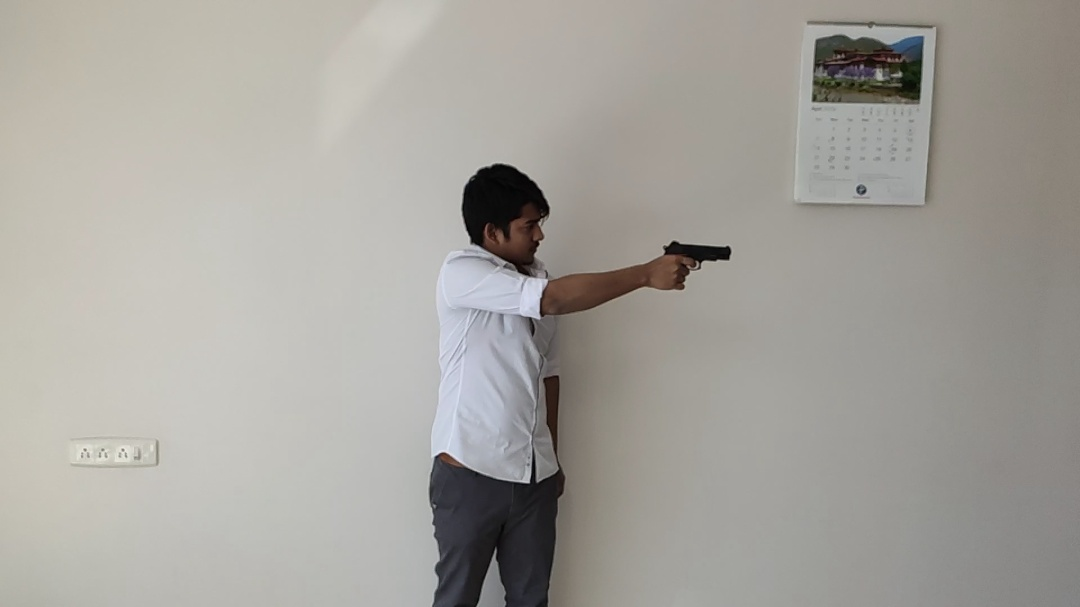gun: (662, 240, 732, 271)
